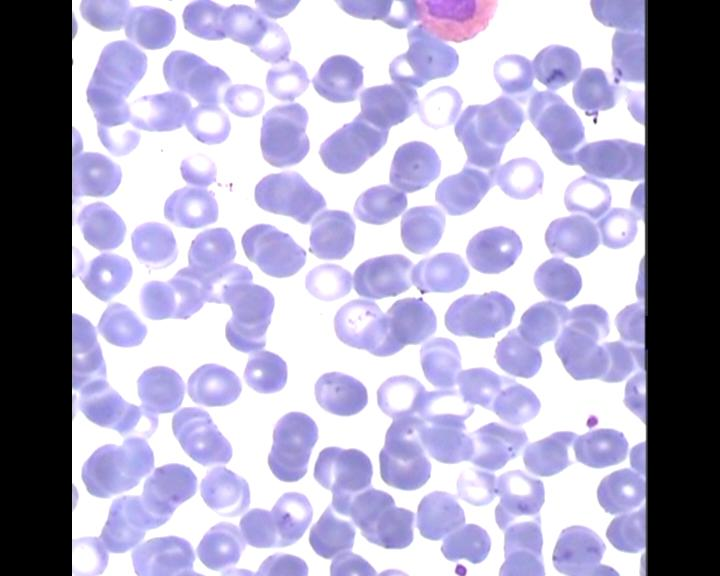eosi: (417, 0, 496, 45)
